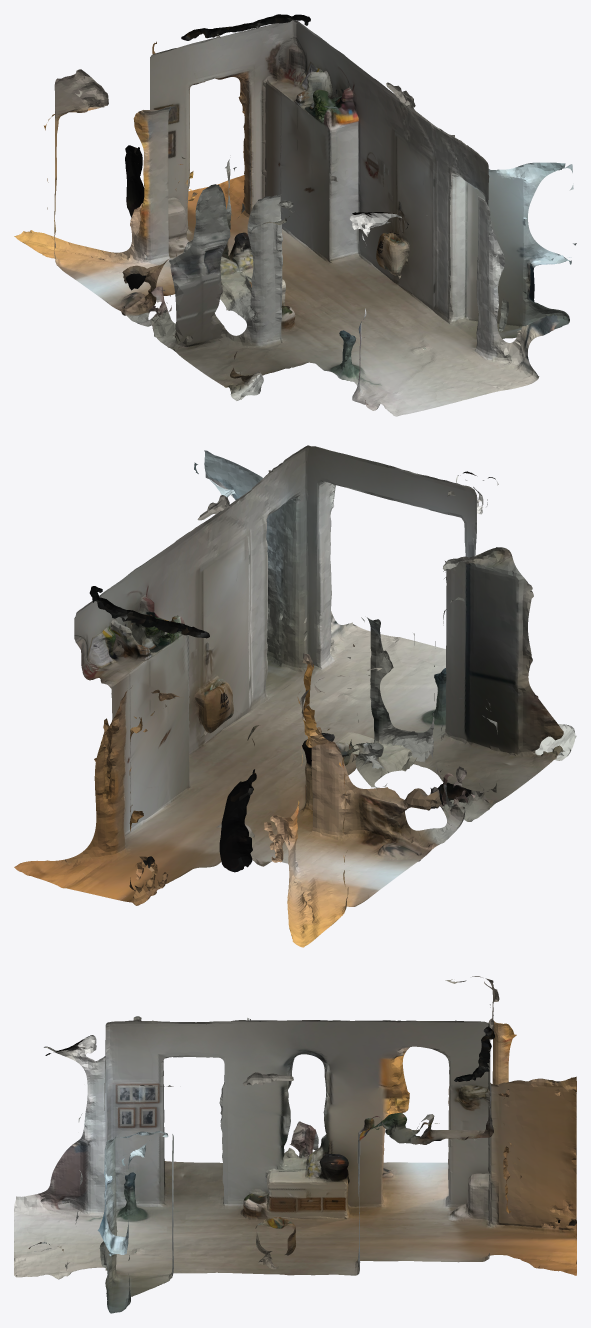
3 renders of one model, top to bottom at view 1: azimuth 30°, elevation 25°; view 2: azimuth 150°, elevation 25°; view 3: azimuth 270°, elevation 25°, orthographic. The views are drawn at different scales.
Size of the model in its own units: 4.52 by 2.83 by 6.88.
1 material, 1 textured.
